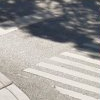crosswalk: (23, 43, 100, 99)
